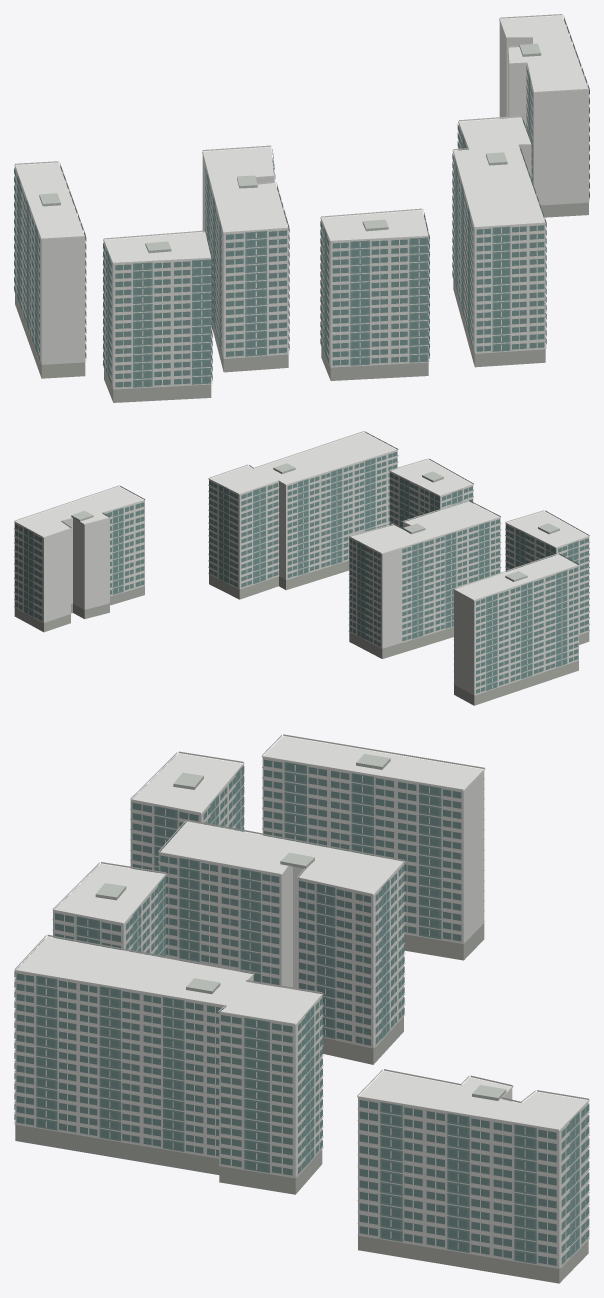
The model's file is representative-a12009202.glb.
3 renders of one model, top to bottom at view 1: azimuth 30°, elevation 25°; view 2: azimuth 150°, elevation 25°; view 3: azimuth 270°, elevation 25°, orthographic. The views are drawn at different scales.
Parts seen in each view (by area): view 1: A12009202_wall001, A12009202_glass001, A12009202_trim001, A12009202_accent001, A12009202_base001, A12009202_roof001; view 2: A12009202_wall001, A12009202_glass001, A12009202_trim001, A12009202_accent001, A12009202_base001, A12009202_roof001; view 3: A12009202_wall001, A12009202_glass001, A12009202_trim001, A12009202_accent001, A12009202_base001, A12009202_roof001.
Boxes of the visible parts, x1,y1,x2,y2 form: A12009202_wall001: (15, 15, 588, 388); A12009202_glass001: (14, 18, 589, 387); A12009202_trim001: (14, 14, 589, 389); A12009202_accent001: (17, 25, 586, 387); A12009202_base001: (15, 202, 588, 402); A12009202_roof001: (39, 43, 541, 253); A12009202_wall001: (14, 432, 589, 695); A12009202_glass001: (14, 452, 588, 693); A12009202_trim001: (14, 431, 589, 695); A12009202_accent001: (24, 458, 578, 690); A12009202_base001: (14, 560, 589, 705); A12009202_roof001: (71, 463, 559, 581); A12009202_wall001: (15, 736, 588, 1268); A12009202_glass001: (14, 756, 589, 1265); A12009202_trim001: (14, 734, 589, 1268); A12009202_accent001: (36, 762, 579, 1263); A12009202_base001: (15, 923, 588, 1283); A12009202_roof001: (95, 754, 506, 1100).
Size of the model in its own units: 191 by 40.7 by 123.
